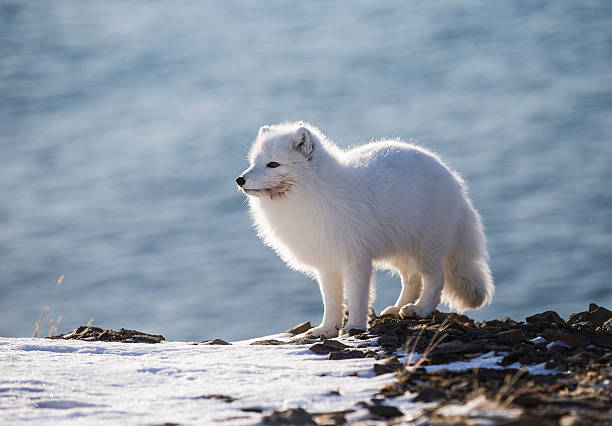arcticfox: (231, 139, 296, 216)
